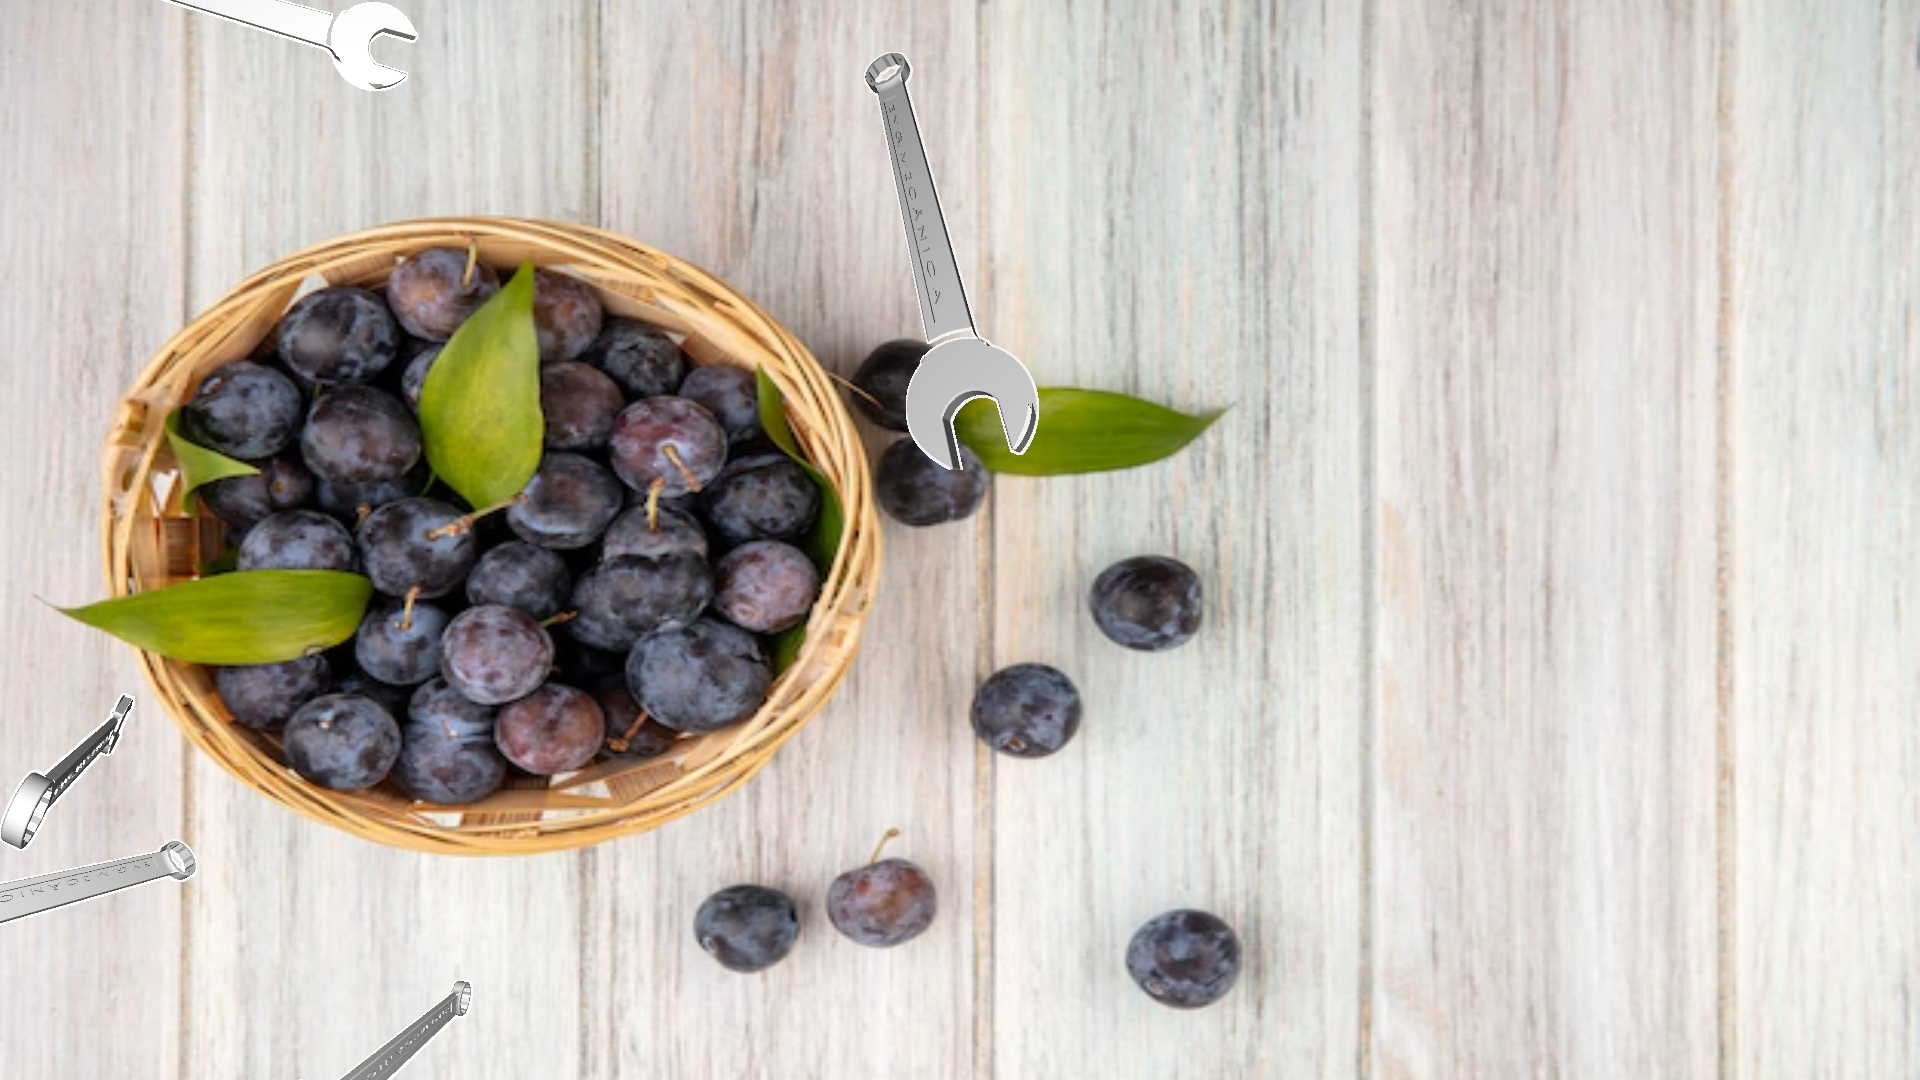Mixed Key: (864, 51, 1038, 469), (334, 738, 495, 1079), (161, 0, 417, 90), (0, 694, 135, 851), (299, 980, 472, 1079), (0, 839, 196, 924), (1437, 549, 1907, 568)
